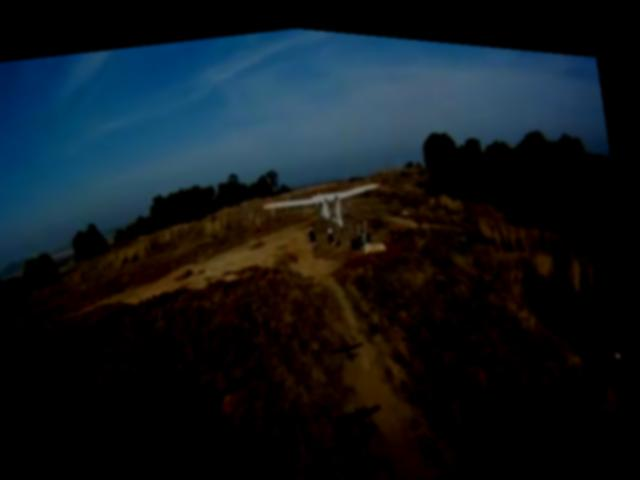uav: (254, 159, 391, 239)
